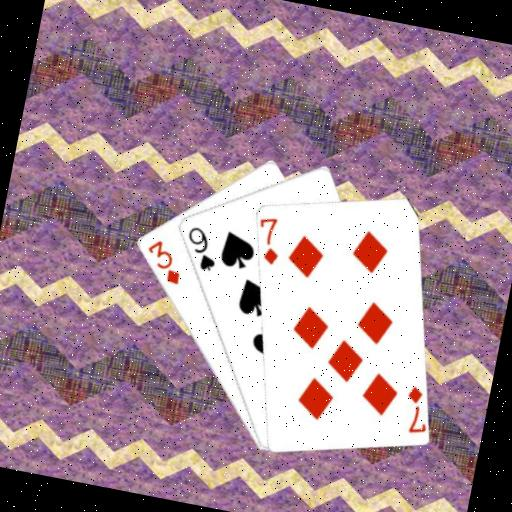3D: (138, 234, 188, 287)
7D: (251, 212, 287, 267), (397, 381, 433, 436)
9S: (178, 222, 223, 274)
